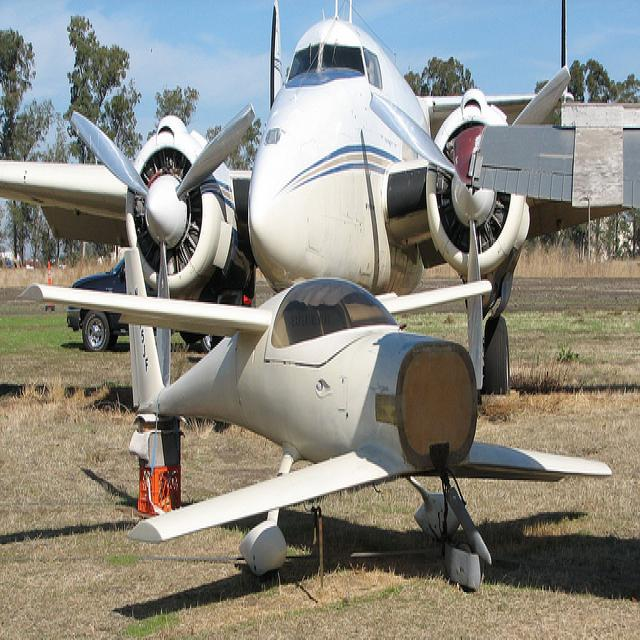Vehicle: (68, 254, 212, 354)
